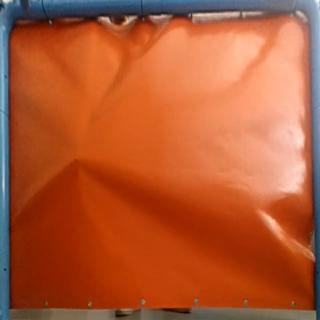Hit-hRxx: (70, 152, 81, 166)
